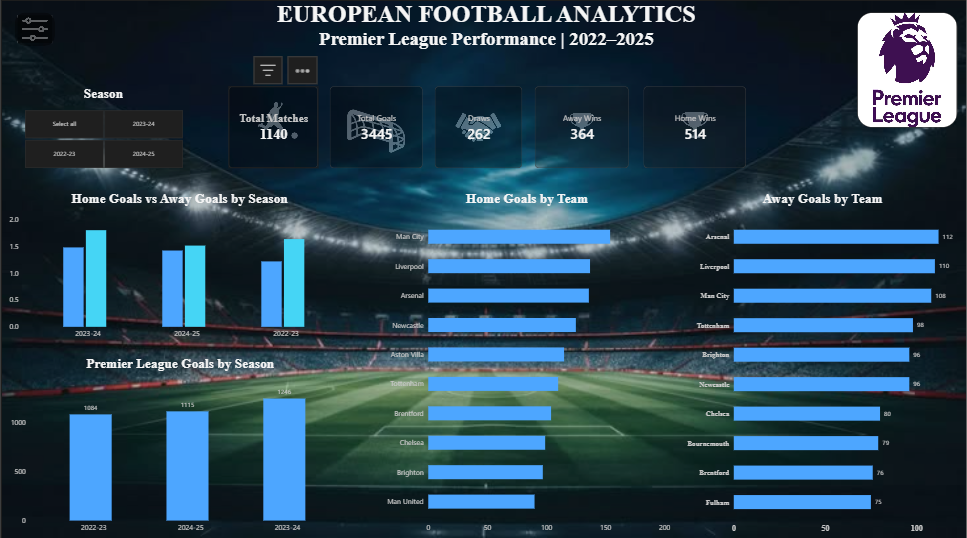

This screenshot's page, from the dashboard's own definition file:
{"tool":"powerbi","page":{"name":"Main","canvas":[1920,1080],"ordinal":0},"visuals":[{"type":"cardVisual","fields":{"Data":["EPL_ALL_SEASON.Season Total Goals"]},"box":[654.6,172.6,185.2,164],"z":0,"group":"g1"},{"type":"group","id":"g1","title":"Main Page","box":[0,0,1922.5,1079.4],"z":1000},{"type":"clusteredColumnChart","title":"Home Goals vs Away Goals by Season","fields":{"Category":["EPL_ALL_SEASON.Season"],"Y":["Avg(EPL_ALL_SEASON.FTAG)","Avg(EPL_ALL_SEASON.FTHG)"]},"box":[0,365.6,711.3,328.3],"z":1000,"group":"g1"},{"type":"clusteredColumnChart","title":"Premier League Goals by Season","fields":{"Category":["EPL_ALL_SEASON.Season"],"Y":["EPL_ALL_SEASON.Season Total Goals"]},"box":[2.5,693.9,708.8,385.5],"z":2000,"group":"g1"},{"type":"cardVisual","fields":{"Data":["EPL_ALL_SEASON.All Seasons Away Wins"]},"box":[1062.9,172.6,187.3,164],"z":3000,"group":"g1"},{"type":"cardVisual","fields":{"Data":["EPL_ALL_SEASON.All Seasons Draws"]},"box":[862.9,172.6,174.7,164],"z":4000,"group":"g1"},{"type":"cardVisual","fields":{"Data":["EPL_ALL_SEASON.All Seasons Home Wins"]},"box":[1277.5,172.6,204.2,164],"z":5000,"group":"g1"},{"type":"clusteredBarChart","title":"Home Goals by Team","fields":{"Category":["EPL_ALL_SEASON.HomeTeam"],"Y":["Sum(EPL_ALL_SEASON.FTHG)"]},"box":[746.1,365.6,601.9,713.8],"z":6000,"group":"g1"},{"type":"clusteredBarChart","title":"Away Goals by Team","fields":{"Category":["EPL_ALL_SEASON.AwayTeam"],"Y":["Sum(EPL_ALL_SEASON.FTAG)"]},"box":[1348,365.6,574.5,713.8],"z":7000,"group":"g1"},{"type":"cardVisual","fields":{"Data":["EPL_ALL_SEASON.All Seasons Matches"]},"box":[452.5,172.6,178.9,164],"z":8000,"group":"g1"},{"type":"image","box":[1703.6,24.9,199,228.8],"z":9000,"group":"g1"},{"type":"actionButton","box":[27.4,23.7,80,66.9],"z":10000,"group":"g1"},{"type":"slicer","title":"Season","fields":{"Values":["EPL_ALL_SEASON.Season"]},"box":[27.4,171.6,353.2,164.1],"z":10500,"group":"g1"},{"type":"textbox","box":[380.9,0,1170.2,116.5],"z":11000,"group":"g1"}]}

Visuals, with their boxes in screenshot pixels (x1, y1, x2, y2), scaled from the page's 1920x1080 canvas onto the 967x538 screenshot:
cardVisual - EPL_ALL_SEASON.Season Total Goals: l=330, t=86, r=423, b=168
"Main Page" group: l=0, t=0, r=966, b=537
"Home Goals vs Away Goals by Season" clusteredColumnChart: l=0, t=182, r=358, b=346
"Premier League Goals by Season" clusteredColumnChart: l=1, t=346, r=358, b=537
cardVisual - EPL_ALL_SEASON.All Seasons Away Wins: l=535, t=86, r=630, b=168
cardVisual - EPL_ALL_SEASON.All Seasons Draws: l=435, t=86, r=523, b=168
cardVisual - EPL_ALL_SEASON.All Seasons Home Wins: l=643, t=86, r=746, b=168
"Home Goals by Team" clusteredBarChart: l=376, t=182, r=679, b=537
"Away Goals by Team" clusteredBarChart: l=679, t=182, r=966, b=537
cardVisual - EPL_ALL_SEASON.All Seasons Matches: l=228, t=86, r=318, b=168
image: l=858, t=12, r=958, b=126
actionButton: l=14, t=12, r=54, b=45
"Season" slicer: l=14, t=85, r=192, b=167
textbox: l=192, t=0, r=781, b=58
